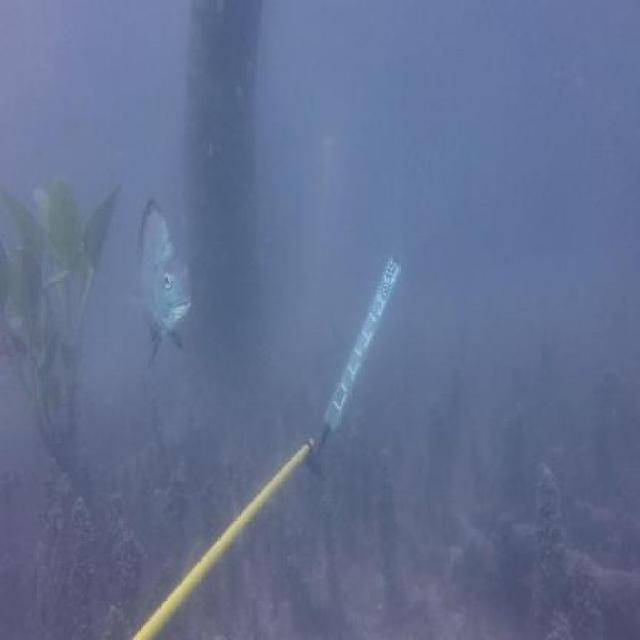acanthopagrus_palmaris: (132, 191, 196, 378)
